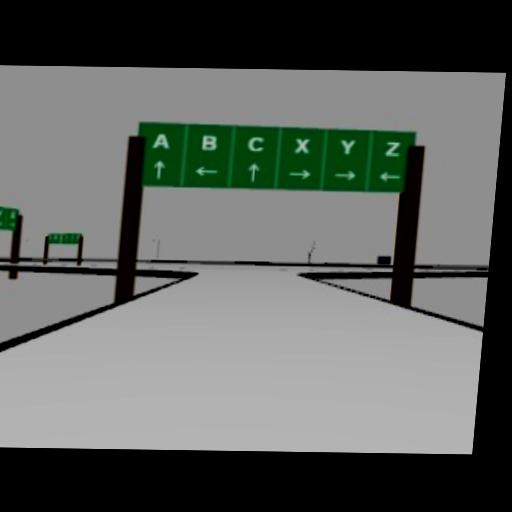A: (151, 133, 171, 148)
B: (201, 135, 218, 152)
C: (246, 135, 265, 153)
Left: (376, 170, 401, 182), (193, 165, 220, 175)
Right: (287, 168, 311, 179), (333, 169, 355, 179)
Straight: (245, 161, 261, 181), (151, 160, 165, 179)
X: (292, 138, 311, 153)
Y: (338, 139, 355, 154)
Z: (382, 141, 400, 157), (8, 208, 16, 219), (0, 207, 4, 227), (0, 207, 7, 216), (0, 206, 0, 221)
